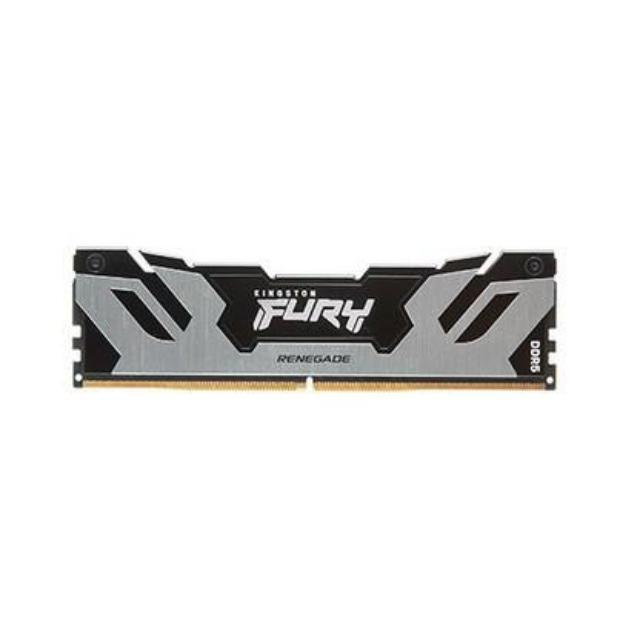RAM: (56, 237, 568, 411)
